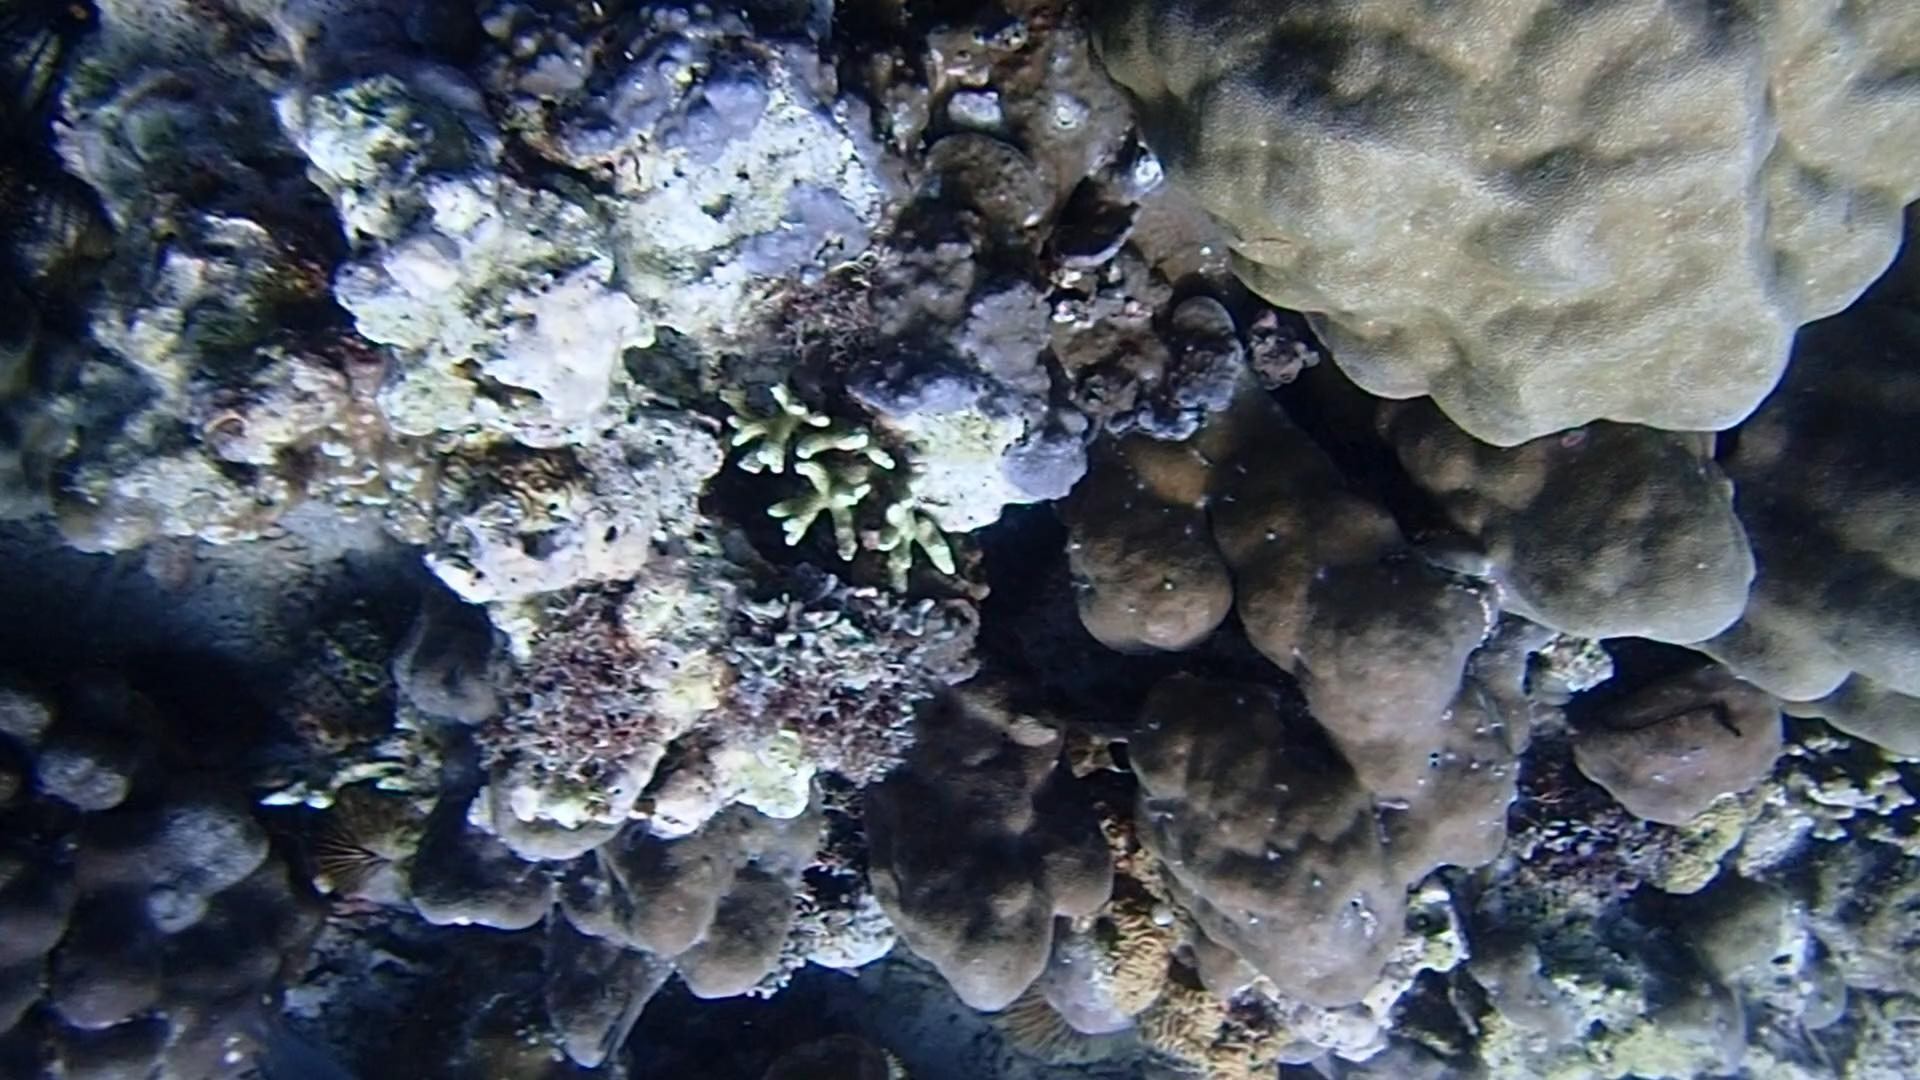Blue Fish Two: (222, 992, 360, 1080)
